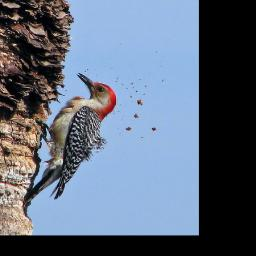Woodpecker: (21, 72, 118, 207)
